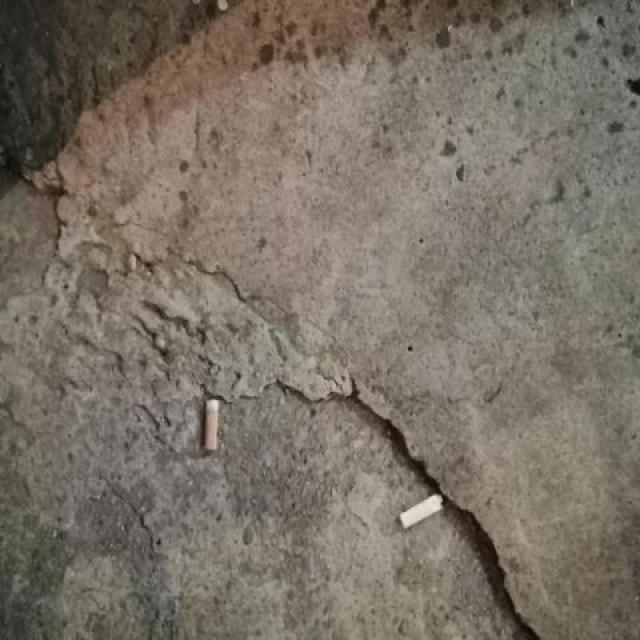non-organic waste: (398, 490, 449, 530), (200, 396, 220, 452)
